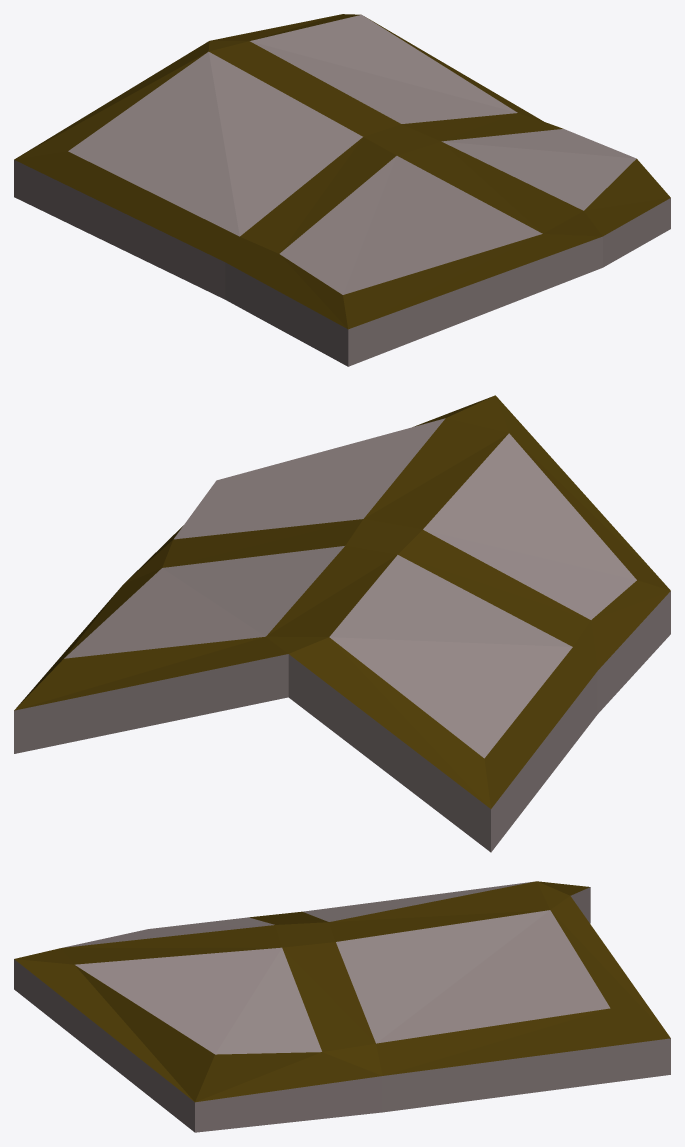
The model's file is inv_zamorak_kiteshield.obj.
3 renders of one model, top to bottom at view 1: azimuth 30°, elevation 25°; view 2: azimuth 150°, elevation 25°; view 3: azimuth 270°, elevation 25°, orthographic. The views are drawn at different scales.
Size of the model in its own units: 0.5938 by 0.1719 by 0.7656.
